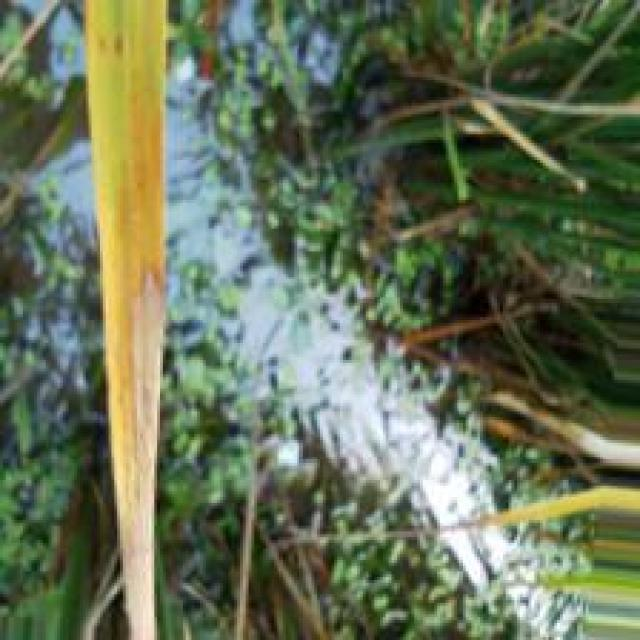Rice False Smut: (118, 262, 164, 639)
